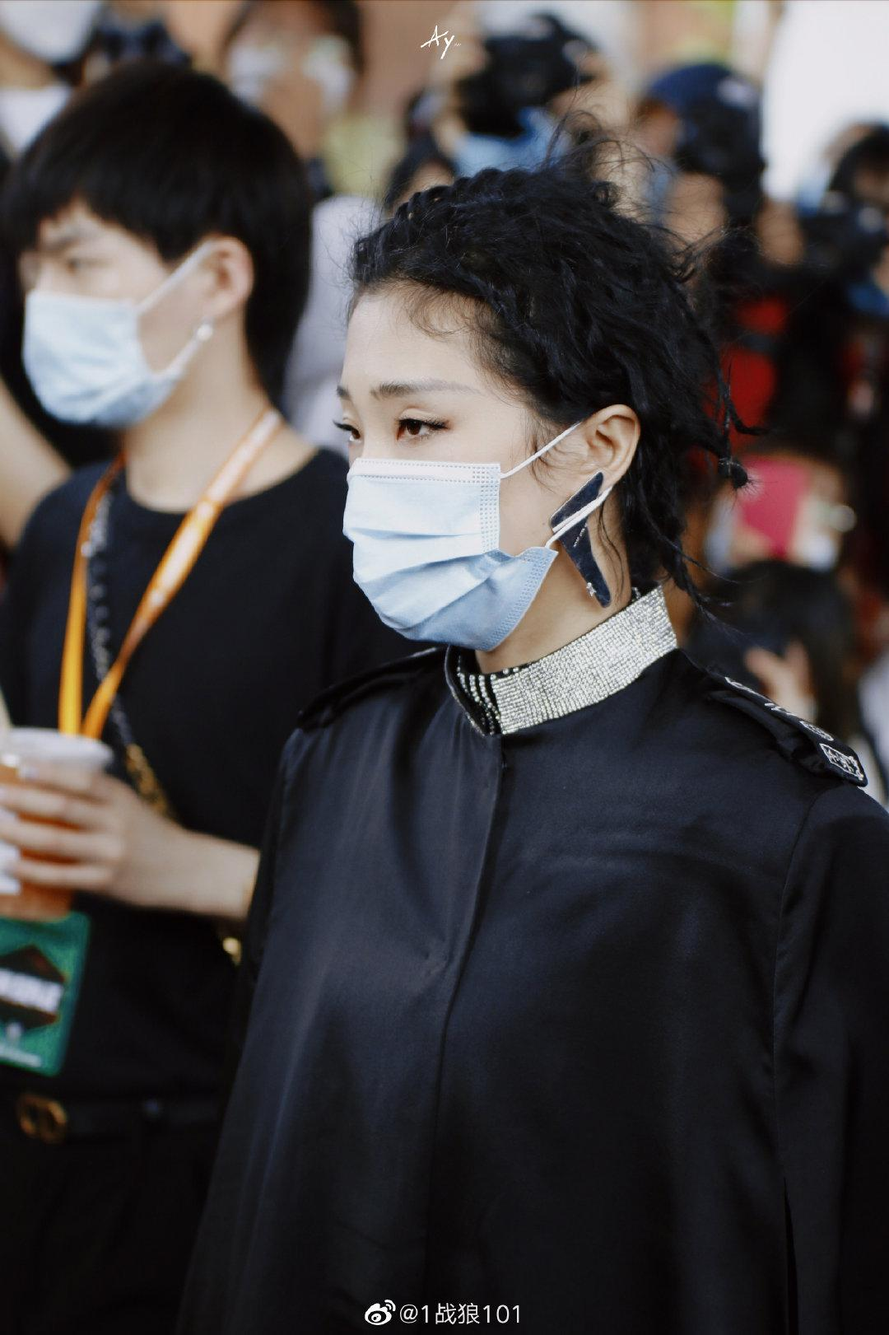OK: (337, 327, 547, 654), (23, 221, 182, 433)
